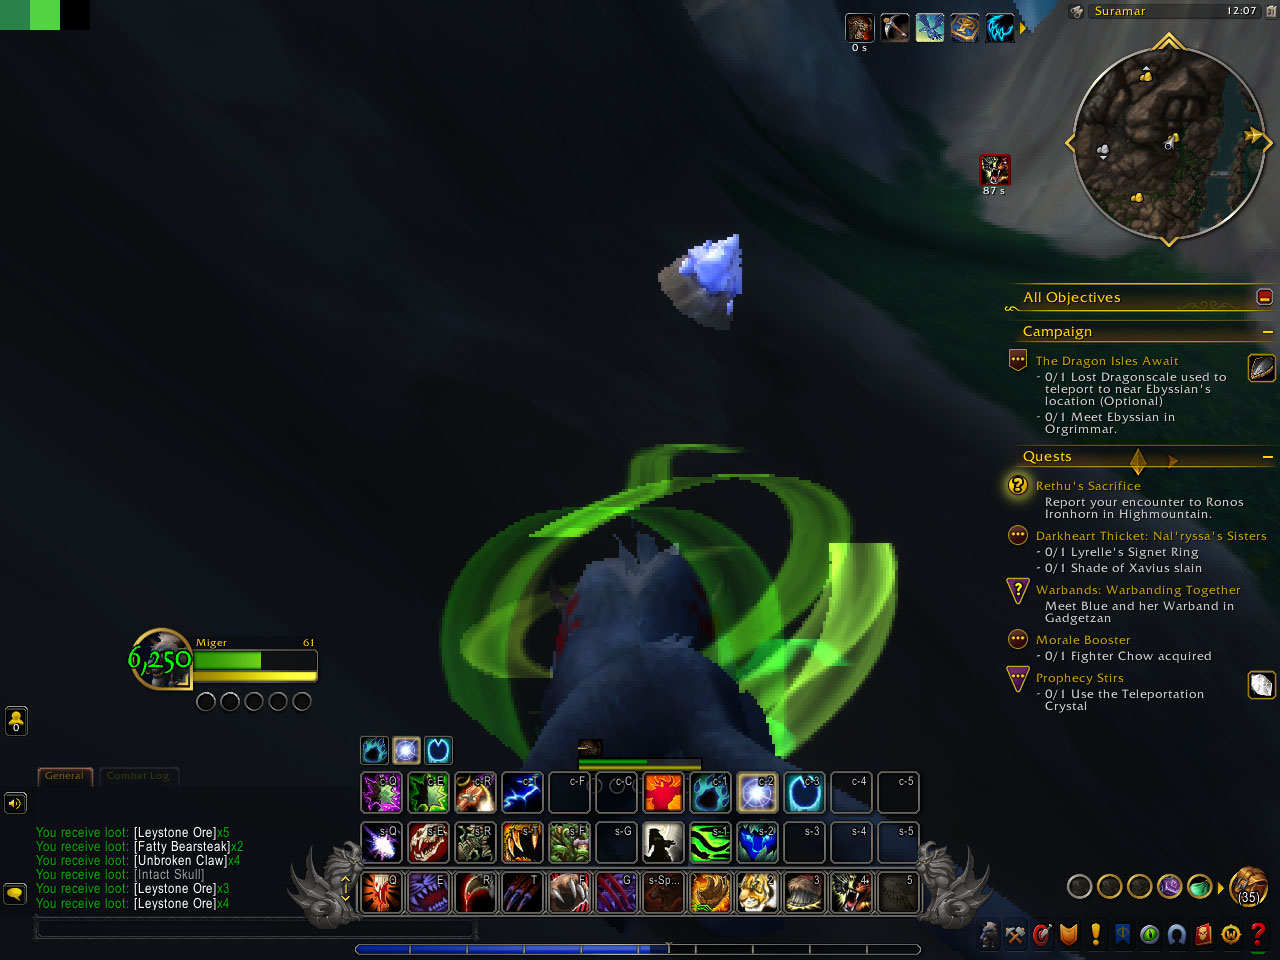ore: (654, 226, 744, 332)
